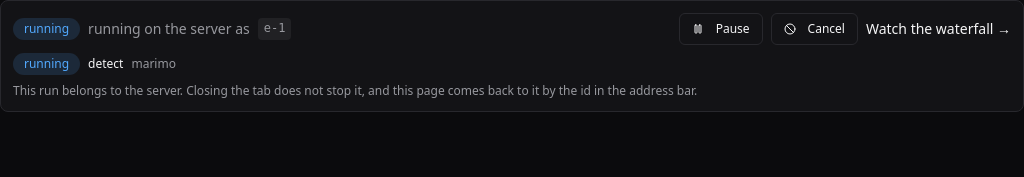
Test: reading a step's log › offers nothing for a step that kept no log
What coordinates should you click on to do the following:
click the button "running detect marimo"
I would click on:
 (47, 64)
Its box is [13,53,1011,75].
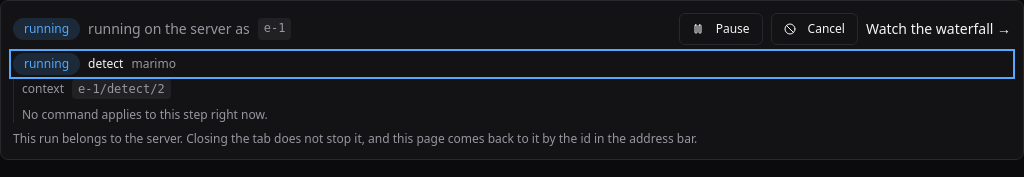
Expected: the text "context" is shown, [22,81,64,97]
